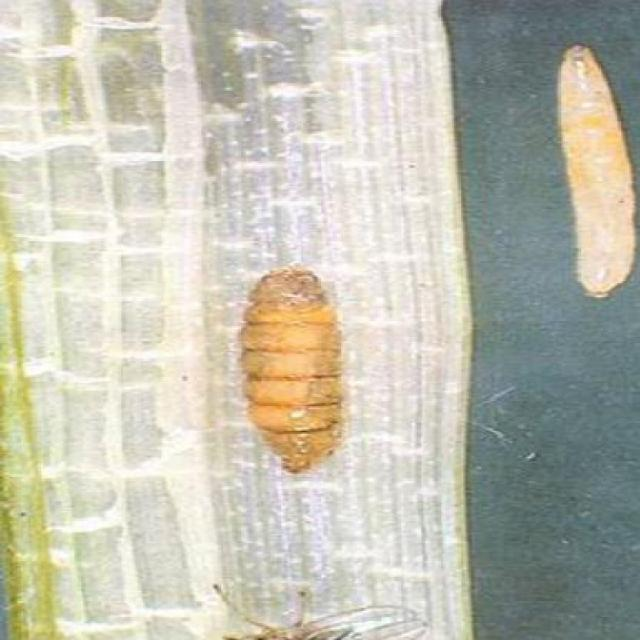whorl-maggot: (215, 260, 371, 489), (538, 36, 640, 304)
